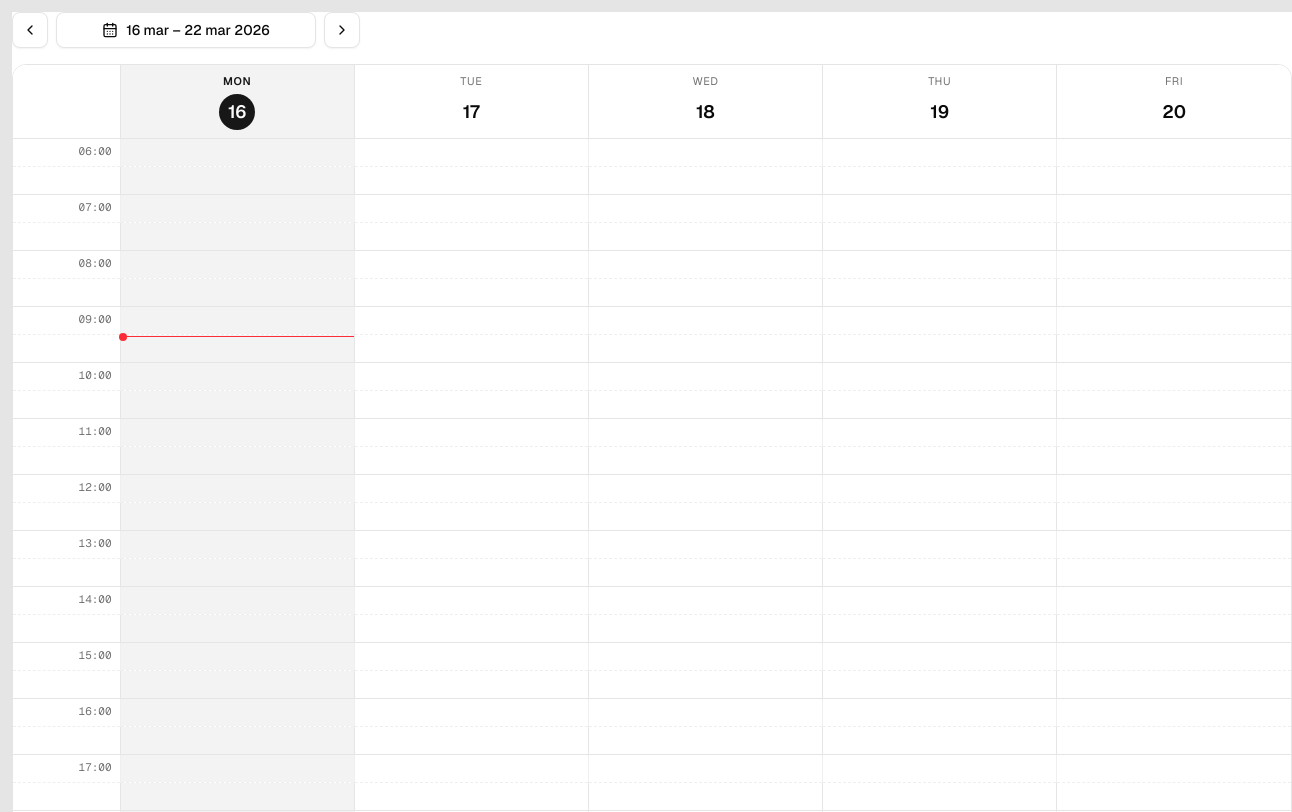
Test case: TimetableView › week navigation › shows the Today button after navigating away
Click the button named "Next week" at (342, 30), box x1=324 y1=12 x2=360 y2=48
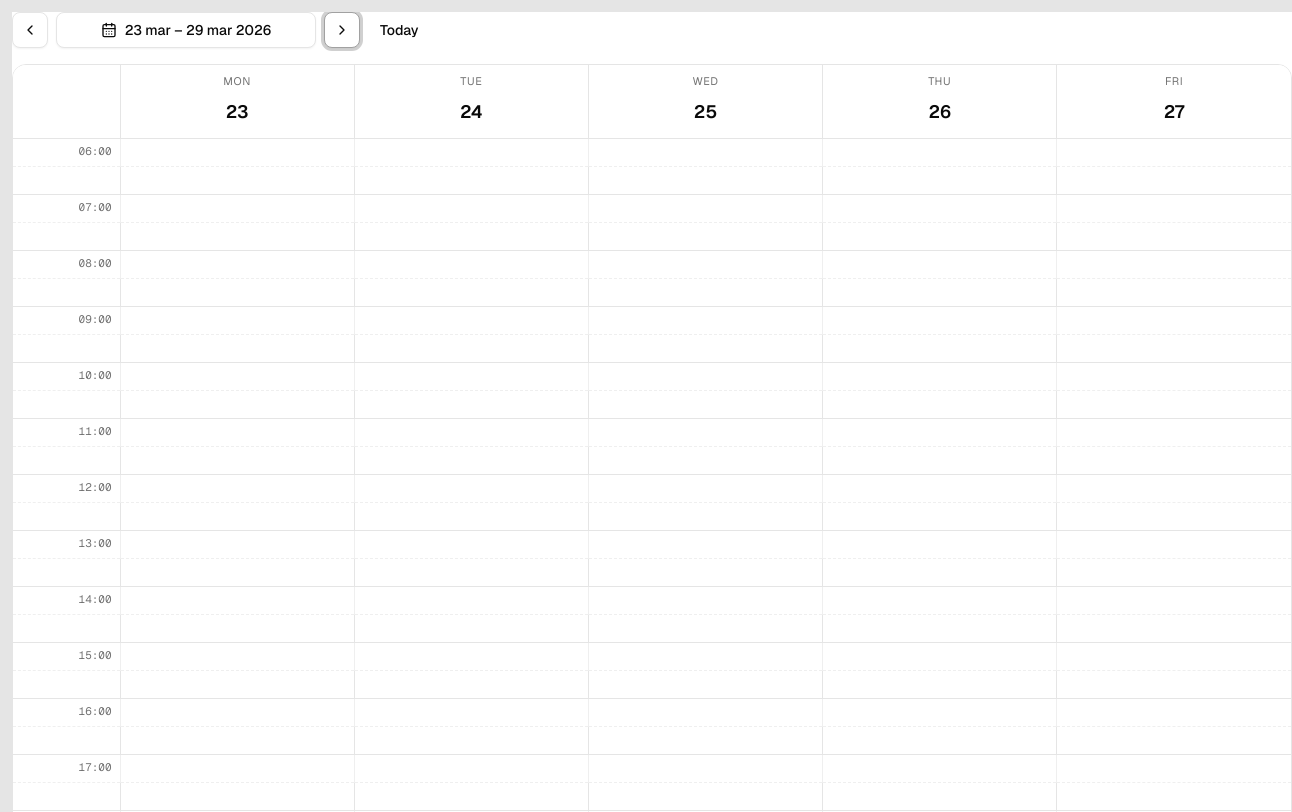
Expected: the button with aria-label "Go to current week" is shown, x1=368 y1=14 x2=431 y2=46
